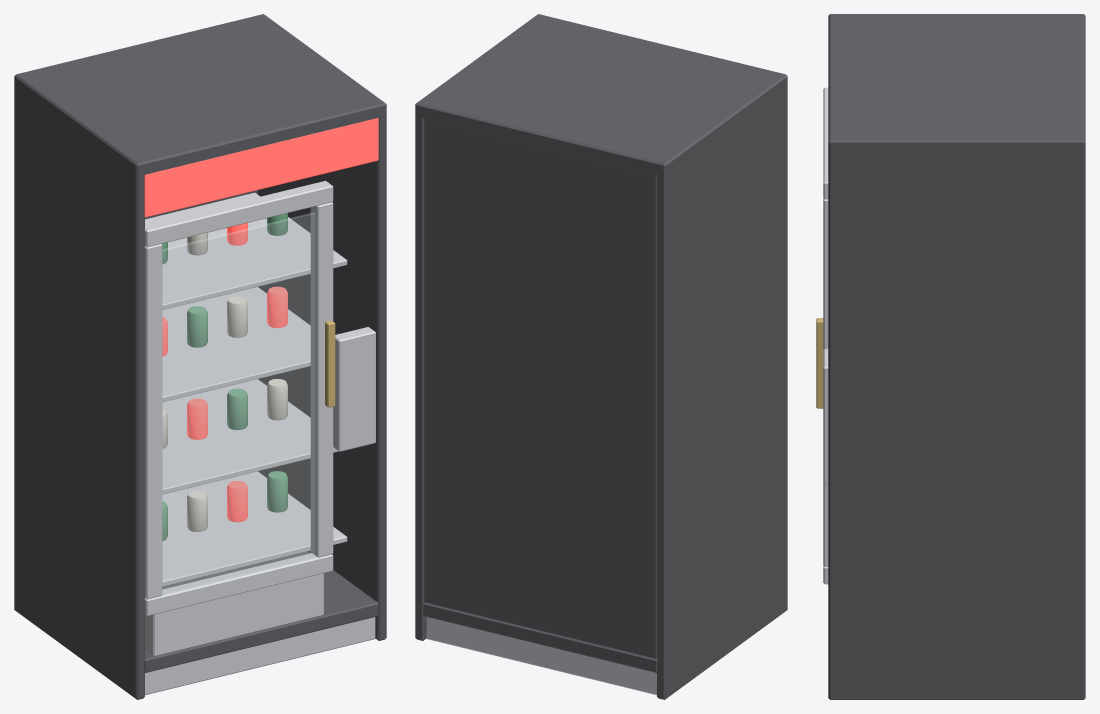
File: escape-room-and-puzzle-venue-drinks-vending-machine-d751cf4a.glb
3 renders of one model, left to right at view 1: azimuth 30°, elevation 25°; view 2: azimuth 150°, elevation 25°; view 3: azimuth 270°, elevation 25°, orthographic. The views are drawn at different scales.
Visible parts, largest first — view 1: drinks-vending-machine, door/glass, door/metal, door/brass; view 2: drinks-vending-machine; view 3: drinks-vending-machine, door/metal, door/brass.
Boxes of the visible parts, left/top/right/bottom form: drinks-vending-machine: left=14, top=14, right=386, bottom=699; door/glass: left=162, top=212, right=315, bottom=593; door/metal: left=144, top=180, right=333, bottom=615; door/brass: left=325, top=320, right=335, bottom=407; drinks-vending-machine: left=415, top=14, right=787, bottom=699; drinks-vending-machine: left=823, top=14, right=1085, bottom=699; door/metal: left=823, top=87, right=828, bottom=584; door/brass: left=816, top=318, right=823, bottom=408.
Bounding box in the file's own units: 0.9399 × 1.92 × 0.837.
